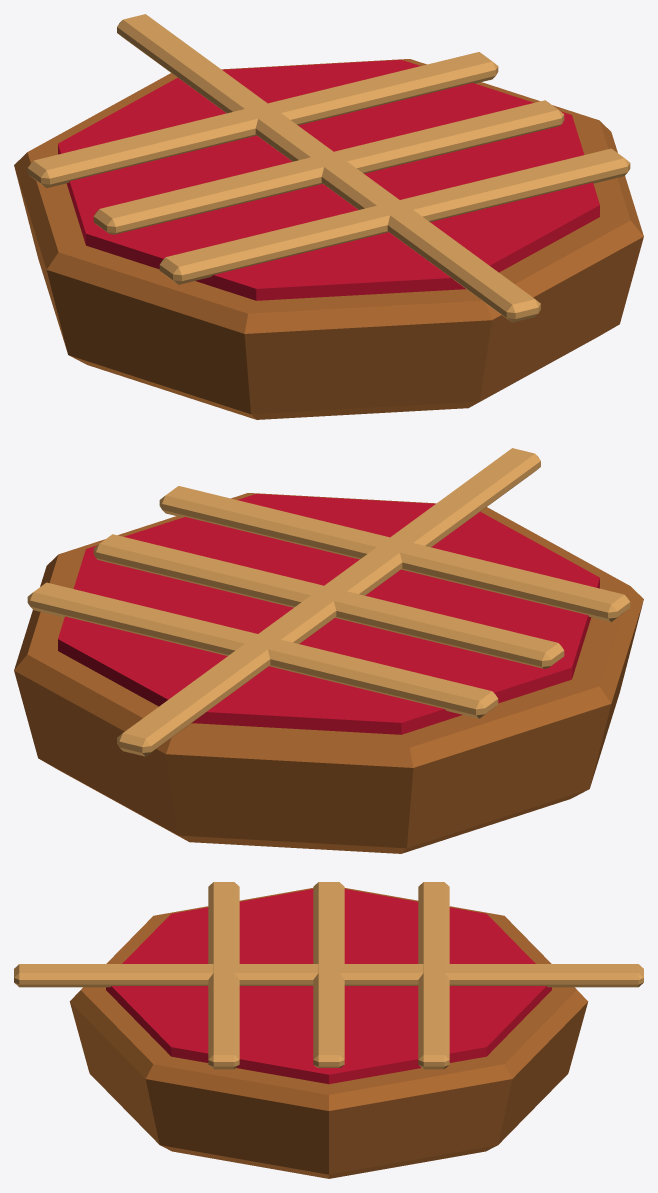
Rendered from Pie.fbx.
The picture shows the model from 3 angles, top to bottom: view 1: azimuth 30°, elevation 25°; view 2: azimuth 150°, elevation 25°; view 3: azimuth 270°, elevation 25°; orthographic projection. The views are drawn at different scales.
Parts seen in each view (by area): view 1: Pie; view 2: Pie; view 3: Pie.
Boxes of the visible parts, box(x1,y1,x2,y2) form: Pie: box(14, 14, 643, 419); Pie: box(14, 448, 643, 853); Pie: box(14, 882, 643, 1178).
Bounding box in the file's own units: 1.98 × 0.49 × 2.4.
1 material, 1 textured.
